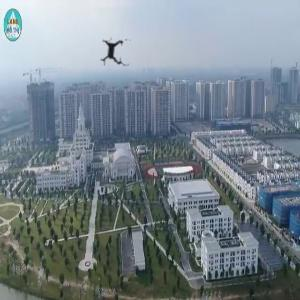drone: (84, 21, 147, 84)
